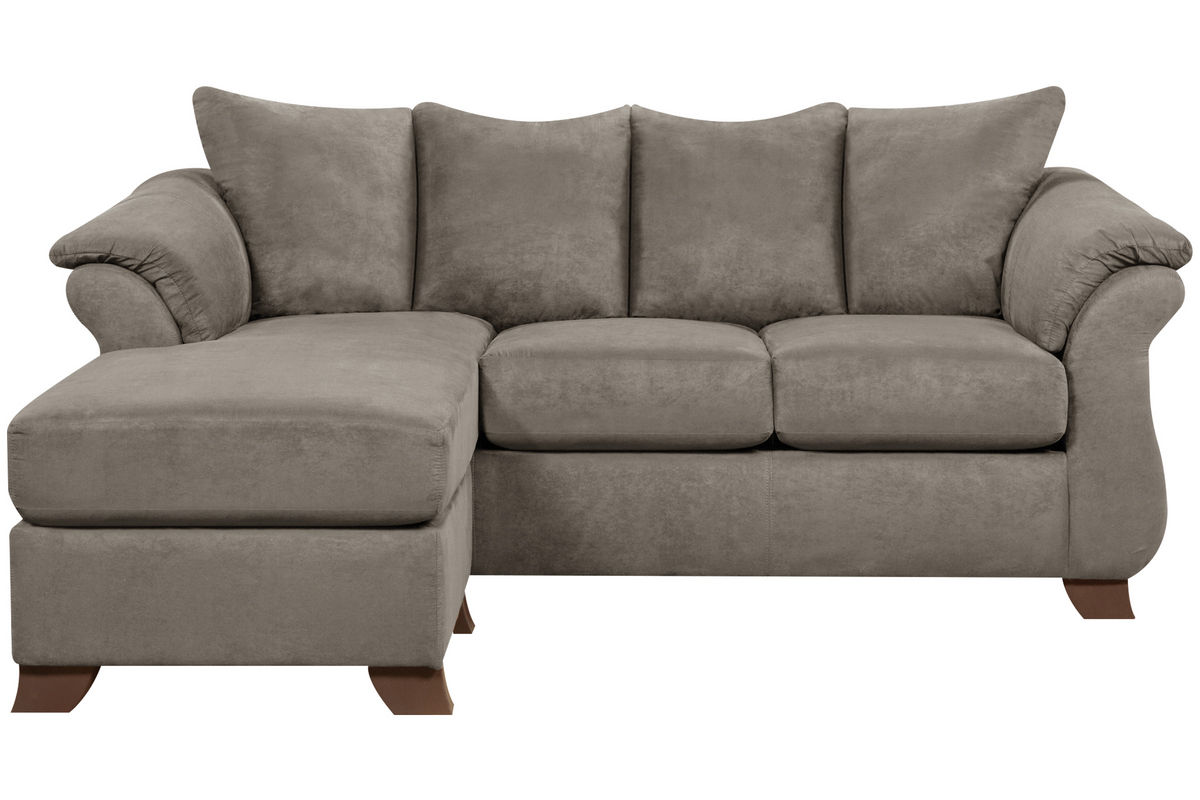chairs: (15, 81, 1192, 722)
